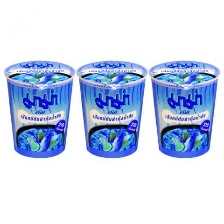paper_cup: (145, 55, 224, 162), (0, 55, 77, 161), (73, 56, 149, 162)
